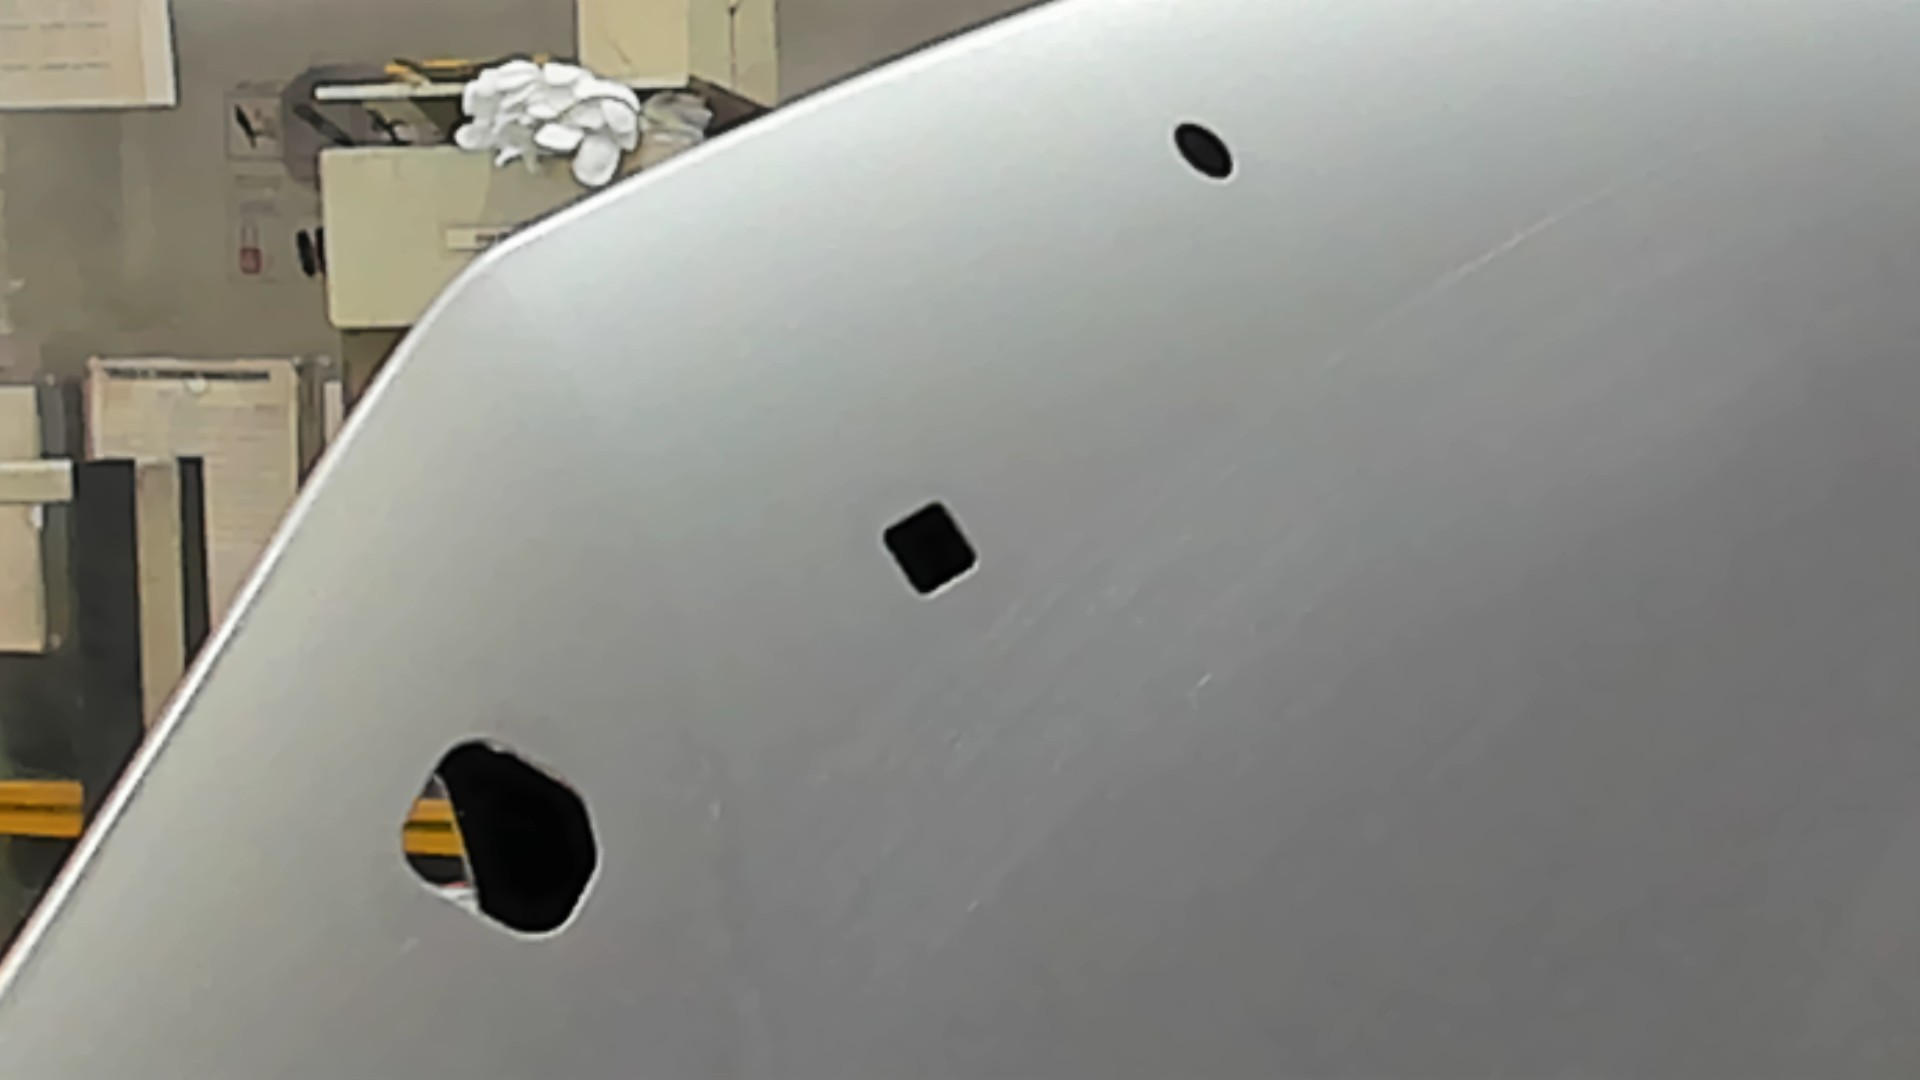Agujero: (884, 501, 978, 597), (1172, 121, 1237, 179)
Agujerote: (404, 738, 601, 940)
